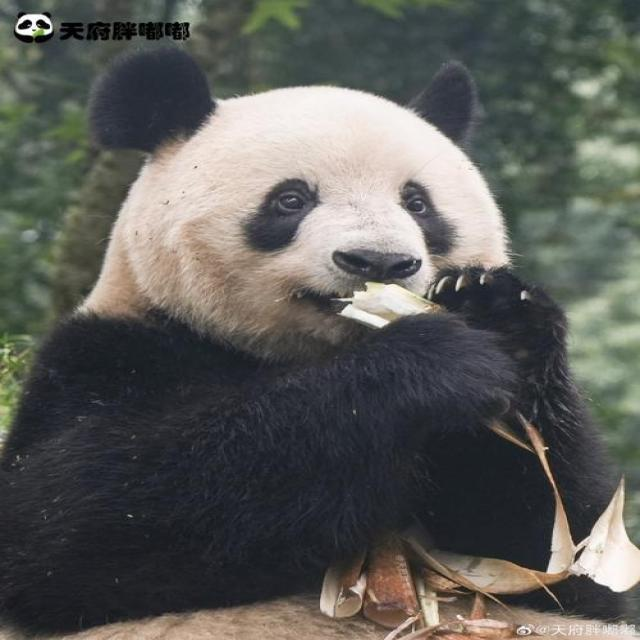panda: (24, 60, 615, 598)
